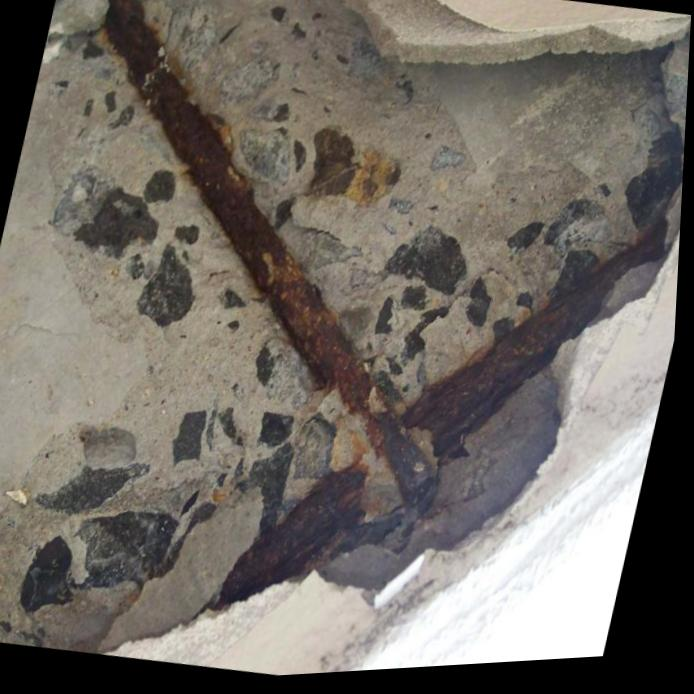damage: (0, 0, 691, 655)
